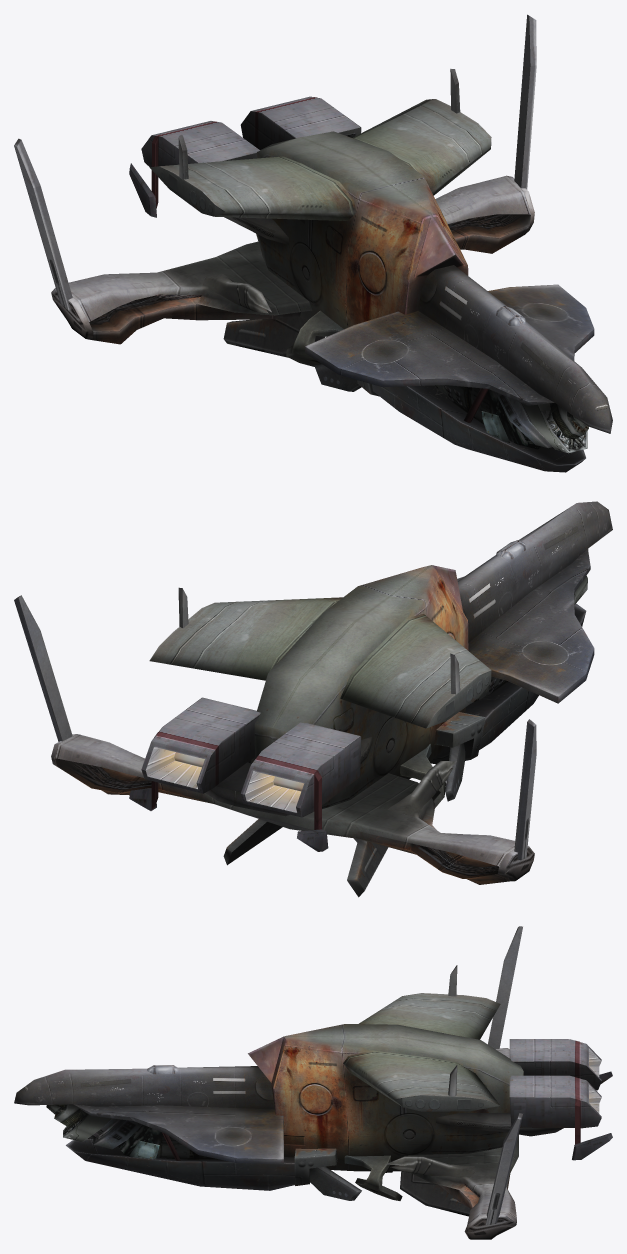
The model's file is Schrottschiff.dae.
3 renders of one model, top to bottom at view 1: azimuth 30°, elevation 25°; view 2: azimuth 150°, elevation 25°; view 3: azimuth 270°, elevation 25°, orthographic. The views are drawn at different scales.
Visible parts, largest first — view 1: Schrottschiff; view 2: Schrottschiff; view 3: Schrottschiff.
Boxes of the visible parts, x1,y1,x2,y2 form: Schrottschiff: (14, 14, 612, 472); Schrottschiff: (14, 501, 612, 897); Schrottschiff: (14, 926, 612, 1239).
Size of the model in its own units: 8.76 by 3.92 by 11.58.
